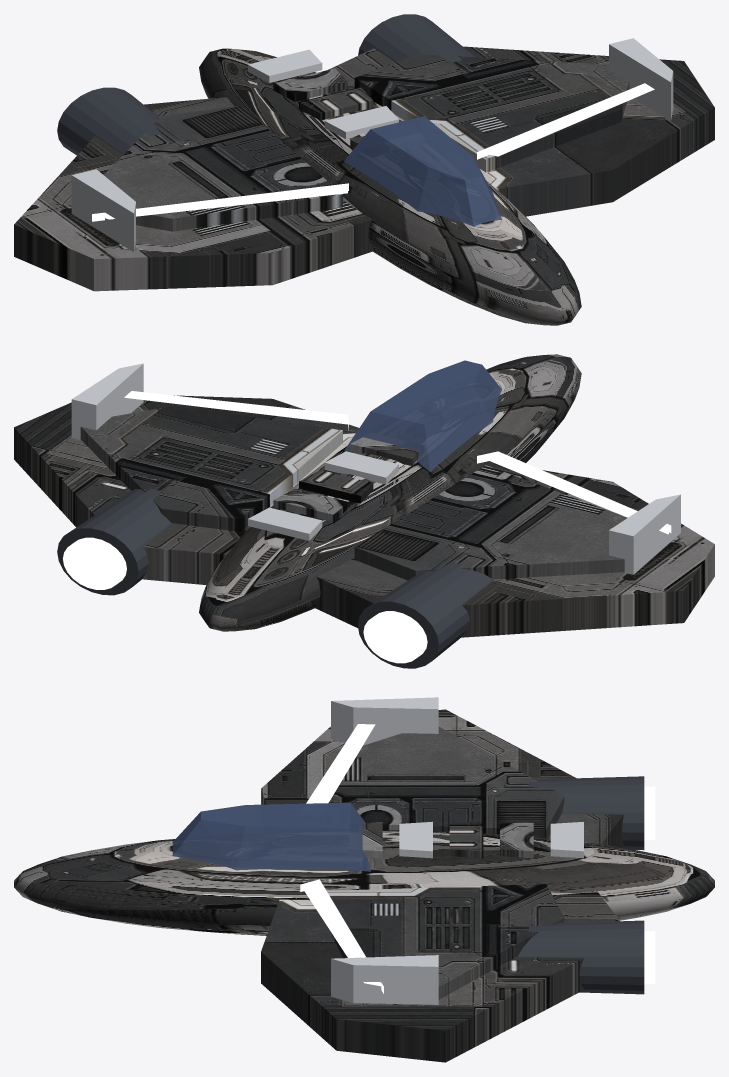
The model's file is aur-halcyon-dart.glb.
3 views of the same model, one above another, from view 1: azimuth 30°, elevation 25°; view 2: azimuth 150°, elevation 25°; view 3: azimuth 270°, elevation 25° (orthographic).
Parts seen in each view (by area): view 1: hull_primary, armor_secondary, canopy_glass, structure_light, mechanical_gunmetal, accent_energy; view 2: hull_primary, armor_secondary, mechanical_gunmetal, structure_light, canopy_glass, engine_glow, accent_energy; view 3: hull_primary, armor_secondary, structure_light, canopy_glass, mechanical_gunmetal, accent_energy, engine_glow.
Boxes of the visible parts, x1=… form: hull_primary: x1=14, y1=46, x2=714, y2=325; armor_secondary: x1=104, y1=54, x2=629, y2=231; canopy_glass: x1=344, y1=116, x2=501, y2=226; structure_light: x1=71, y1=38, x2=673, y2=251; mechanical_gunmetal: x1=57, y1=14, x2=475, y2=155; accent_energy: x1=92, y1=83, x2=654, y2=221; hull_primary: x1=14, y1=354, x2=714, y2=637; armor_secondary: x1=80, y1=406, x2=624, y2=580; mechanical_gunmetal: x1=57, y1=488, x2=493, y2=668; structure_light: x1=71, y1=363, x2=680, y2=574; canopy_glass: x1=344, y1=360, x2=501, y2=471; engine_glow: x1=63, y1=537, x2=427, y2=663; accent_energy: x1=124, y1=391, x2=671, y2=534; hull_primary: x1=14, y1=709, x2=714, y2=1062; armor_secondary: x1=327, y1=726, x2=564, y2=999; structure_light: x1=331, y1=697, x2=583, y2=1004; canopy_glass: x1=172, y1=802, x2=370, y2=871; mechanical_gunmetal: x1=517, y1=776, x2=644, y2=994; accent_energy: x1=300, y1=724, x2=383, y2=993; engine_glow: x1=644, y1=786, x2=655, y2=983.
Size of the model in its own units: 5.44 by 0.88 by 5.01.
Materials: 7 (2 with a texture image).
